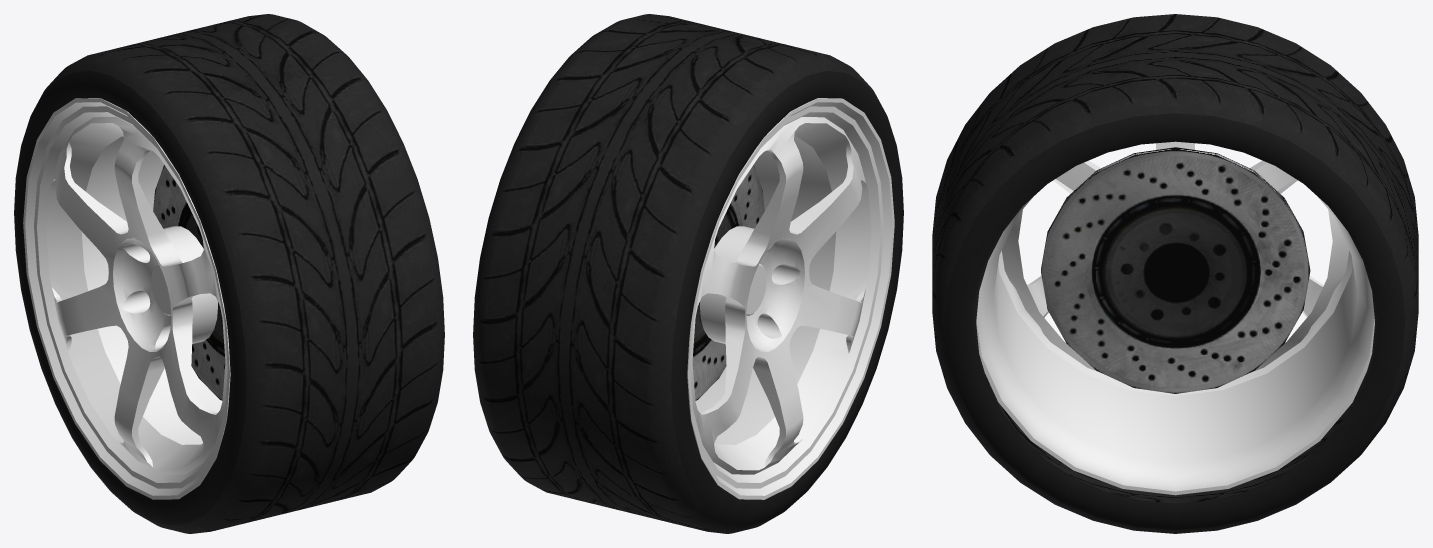
Rendered from 03_Volk.fbx.
3 renders of one model, left to right at view 1: azimuth 30°, elevation 25°; view 2: azimuth 150°, elevation 25°; view 3: azimuth 270°, elevation 25°, orthographic.
Parts seen in each view (by area): view 1: Combined No Name Object 0, Volk, Combined co_contisportcontact_2_vmax_wall Object 0, Rotor; view 2: Combined No Name Object 0, Volk, Combined co_contisportcontact_2_vmax_wall Object 0, Rotor; view 3: Combined No Name Object 0, Volk, Rotor, Combined co_contisportcontact_2_vmax_wall Object 0.
Part boxes in pixels (box(x1,y1,x2,y2)): Combined No Name Object 0: box(14, 14, 444, 533); Volk: box(23, 98, 230, 499); Combined co_contisportcontact_2_vmax_wall Object 0: box(14, 70, 246, 525); Rotor: box(153, 165, 225, 400); Combined No Name Object 0: box(473, 14, 903, 533); Volk: box(687, 98, 894, 499); Combined co_contisportcontact_2_vmax_wall Object 0: box(671, 70, 903, 525); Rotor: box(692, 165, 764, 400); Combined No Name Object 0: box(932, 14, 1418, 533); Volk: box(976, 141, 1374, 495); Rotor: box(1041, 147, 1310, 393); Combined co_contisportcontact_2_vmax_wall Object 0: box(945, 113, 1405, 530).
Bounding box in the file's own units: 0.3383 × 0.688 × 0.688.
